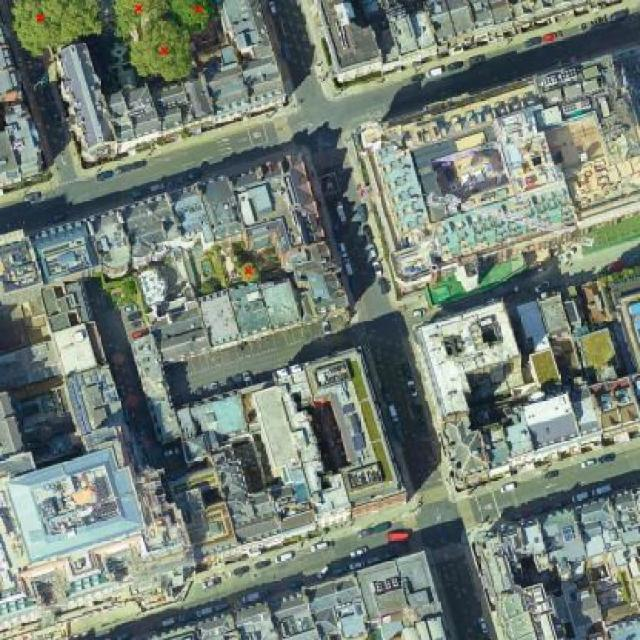tree: (13, 0, 109, 57), (133, 22, 196, 82), (111, 0, 175, 37), (168, 0, 221, 31), (237, 262, 260, 284), (119, 278, 139, 302), (198, 275, 222, 294)
